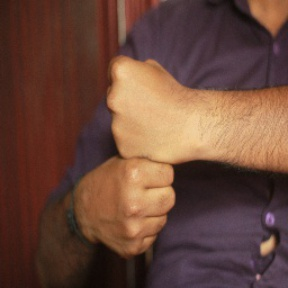G: (78, 48, 199, 258)
